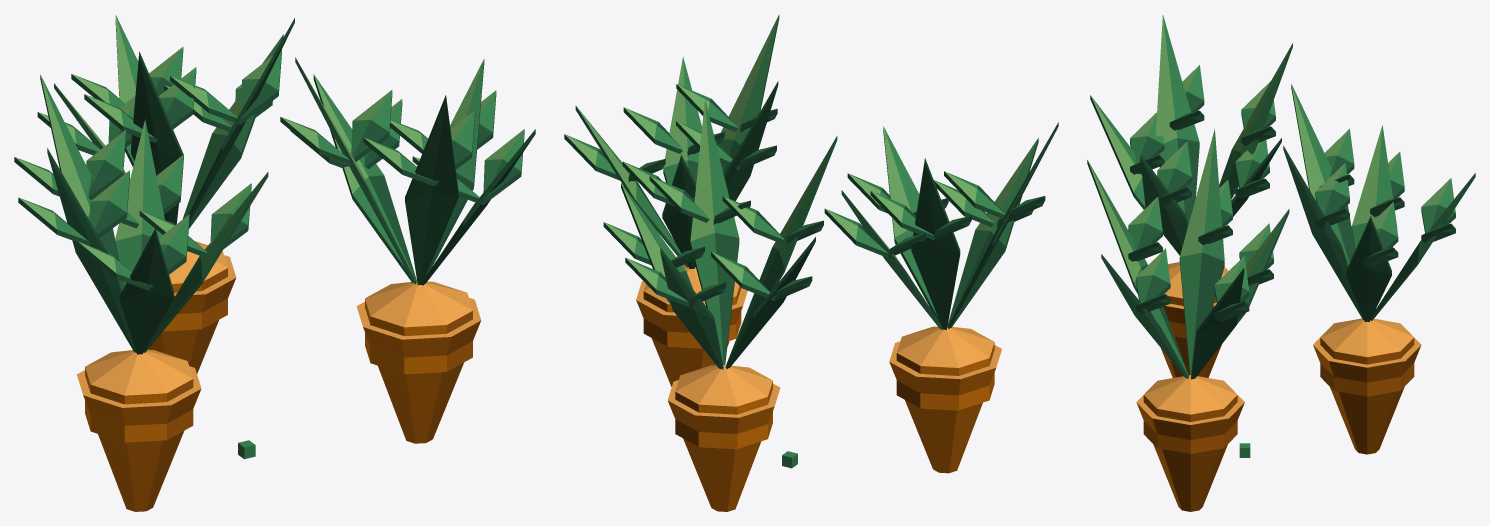
File: carrot_stage_04.fbx
3 renders of one model, left to right at view 1: azimuth 30°, elevation 25°; view 2: azimuth 150°, elevation 25°; view 3: azimuth 270°, elevation 25°, orthographic. The views are drawn at different scales.
Parts seen in each view (by area): view 1: carrot_stage_04; view 2: carrot_stage_04; view 3: carrot_stage_04.
Part boxes in pixels (box(x1,y1,x2,y2)): carrot_stage_04: box(14, 15, 535, 511); carrot_stage_04: box(564, 14, 1058, 511); carrot_stage_04: box(1087, 15, 1475, 511).
Size of the model in its own units: 1.8 by 1.38 by 1.43.
Materials: 1 (1 with a texture image).
